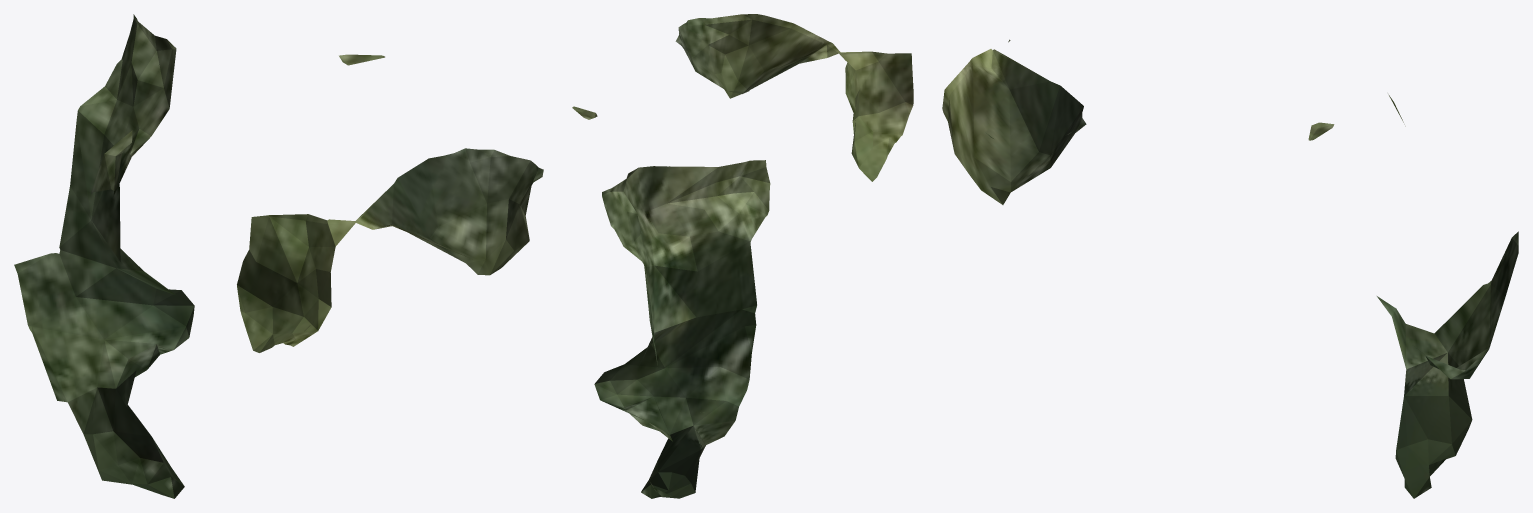
3 views of the same model, side by side, from view 1: azimuth 30°, elevation 25°; view 2: azimuth 150°, elevation 25°; view 3: azimuth 270°, elevation 25° (orthographic). The views are drawn at different scales.
Bounding box in the file's own units: 2.31 × 3.65 × 4.4.
1 material, 1 textured.
